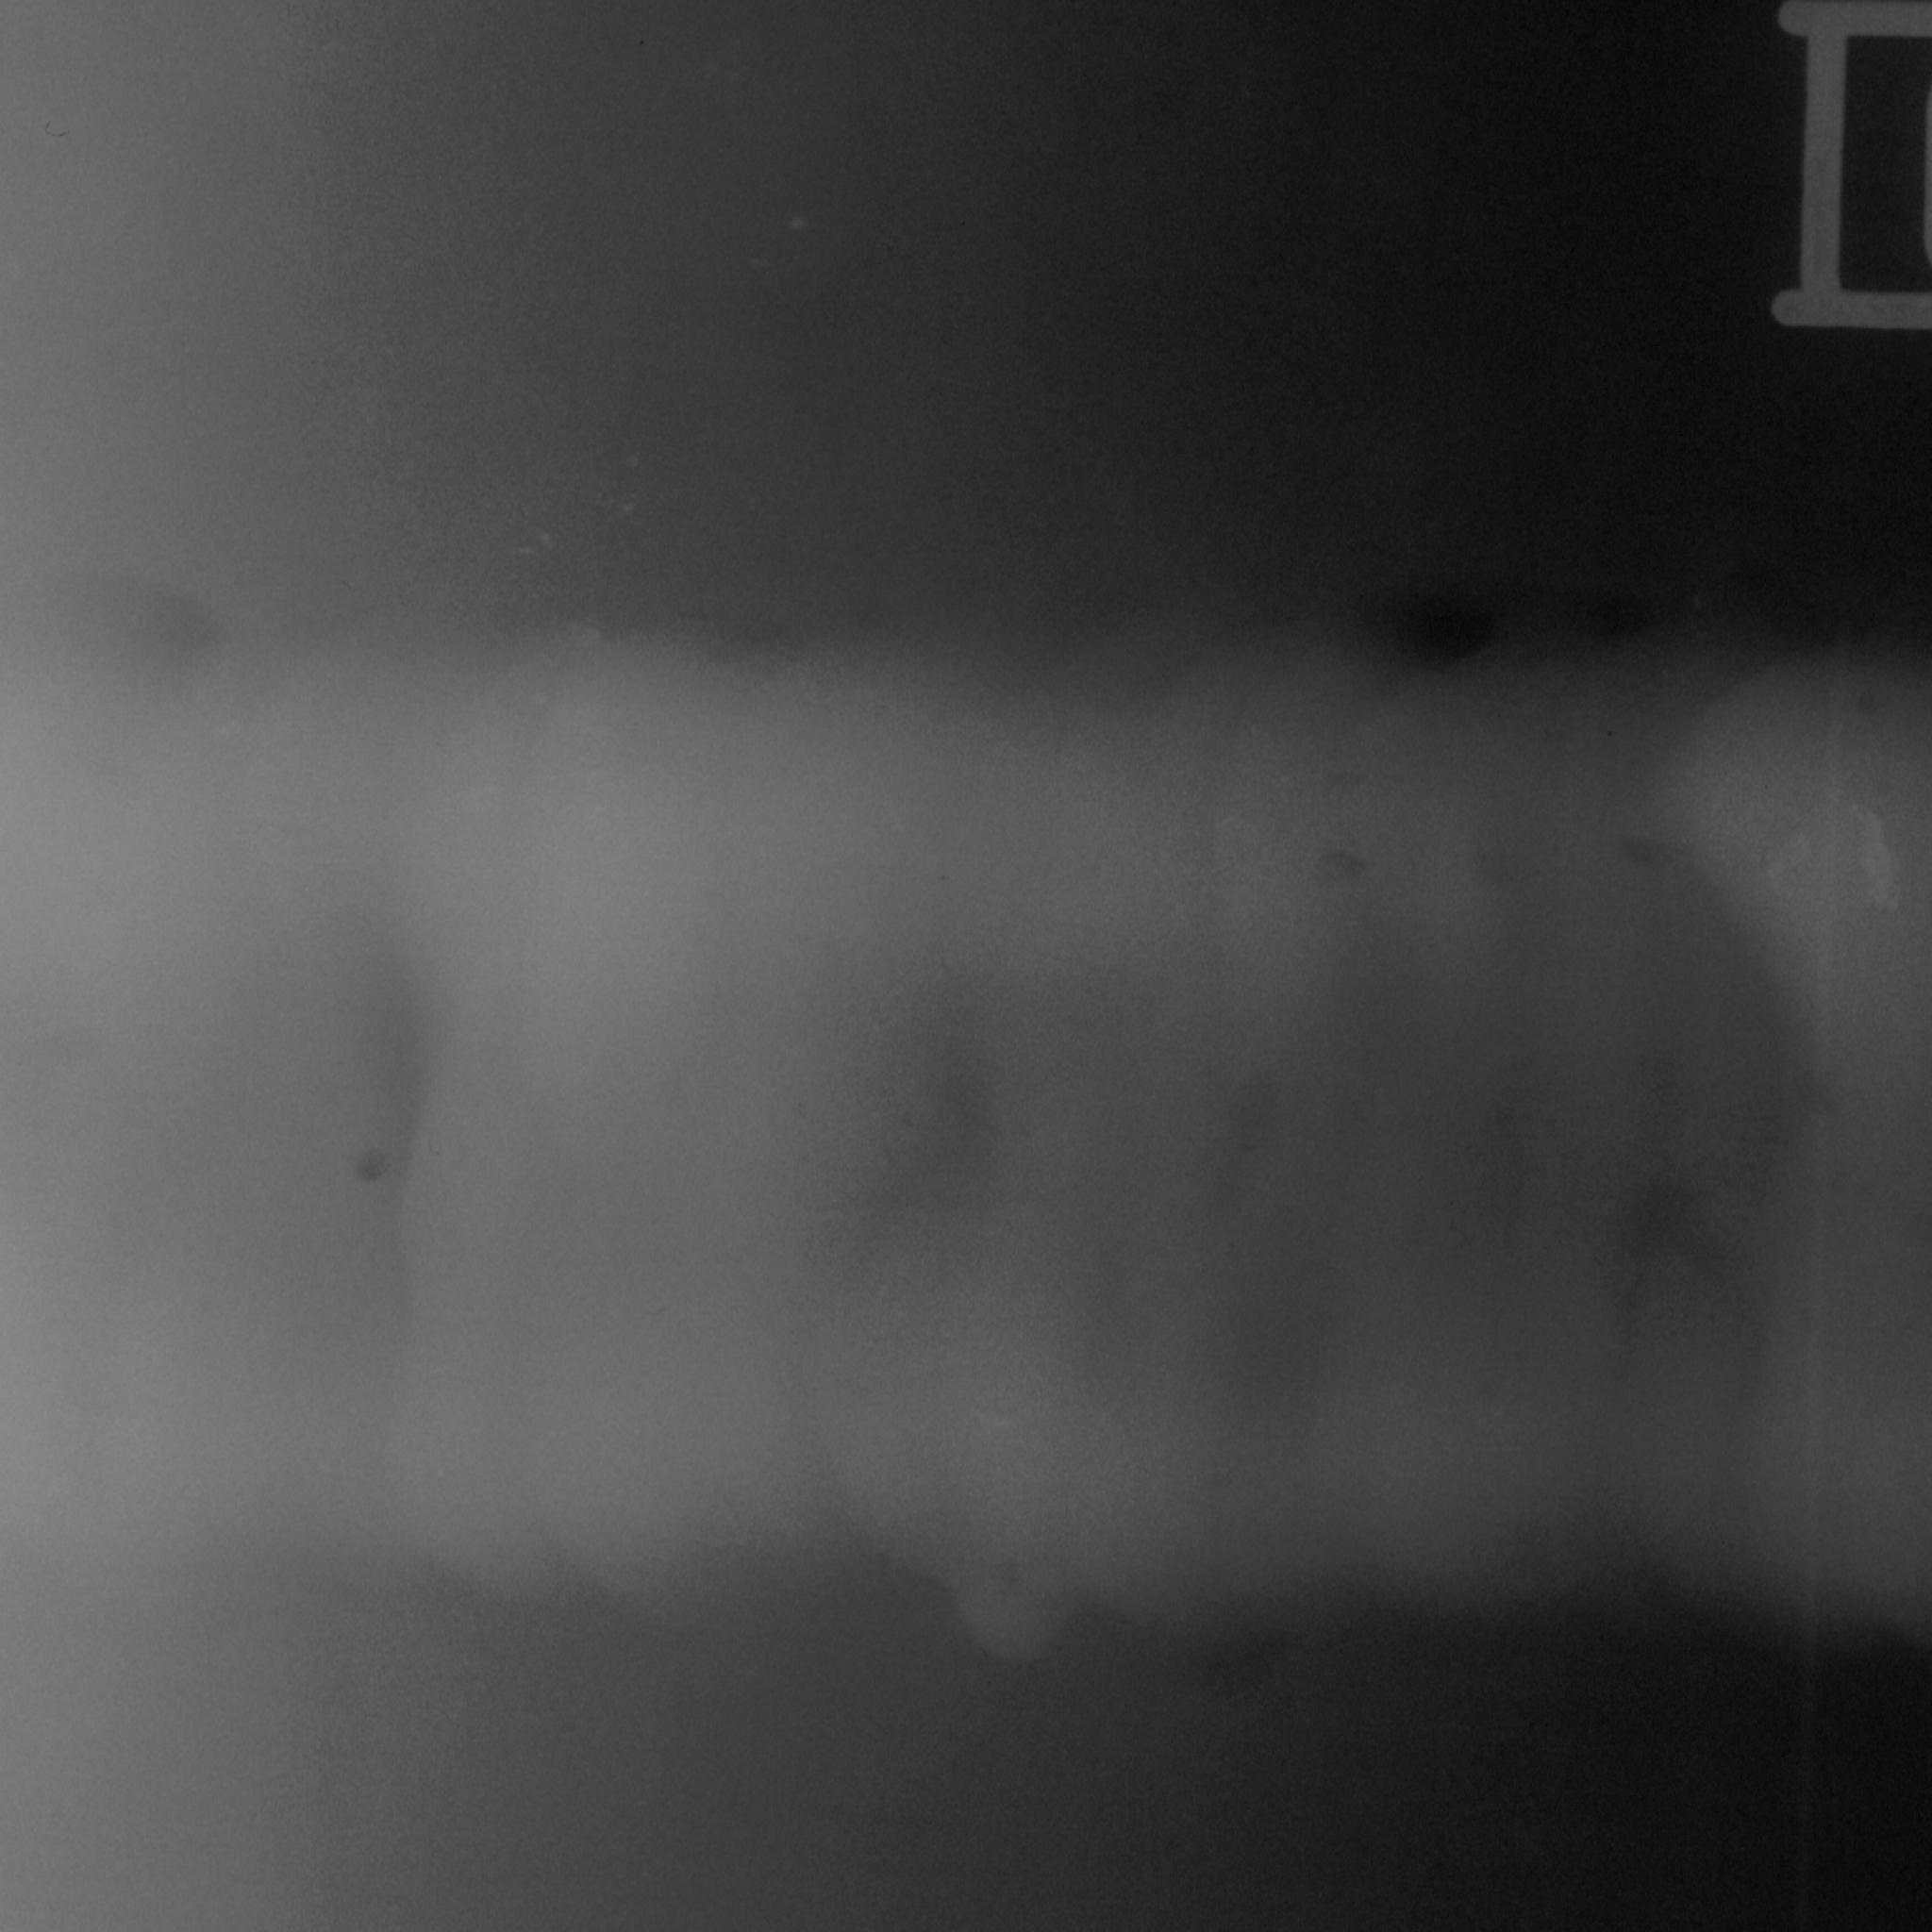Solda Ruim: (0, 460, 1932, 1768)
